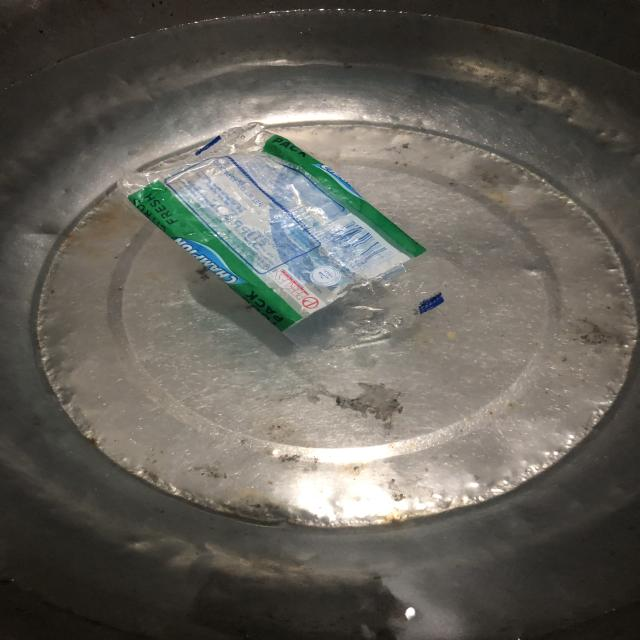Plastic Wrapper: (107, 130, 486, 358)
